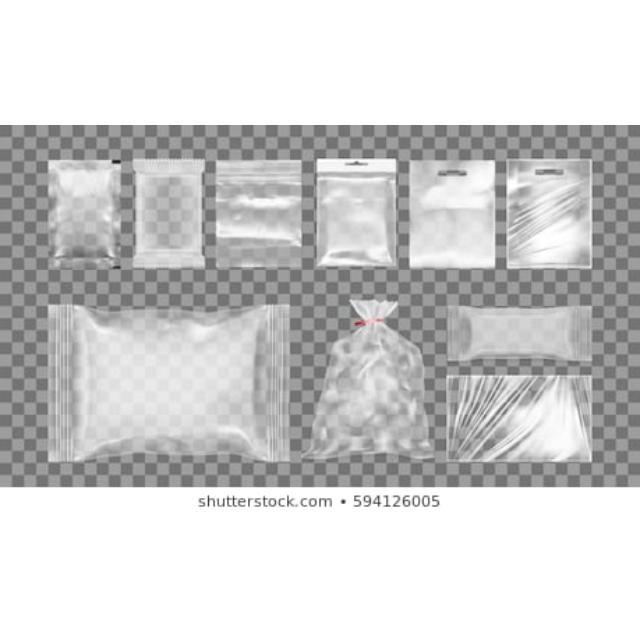Single-layer Plastic: (49, 305, 289, 461), (304, 300, 432, 459), (448, 376, 591, 461), (410, 160, 495, 268), (508, 160, 591, 268), (218, 161, 301, 267), (316, 159, 396, 267), (449, 306, 591, 362), (49, 160, 121, 268), (134, 159, 205, 267)
